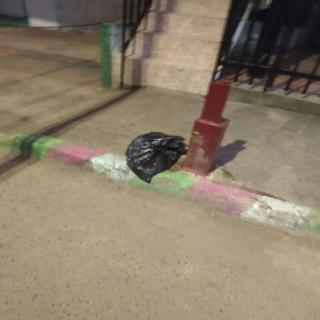Garbage: (122, 129, 191, 185)
